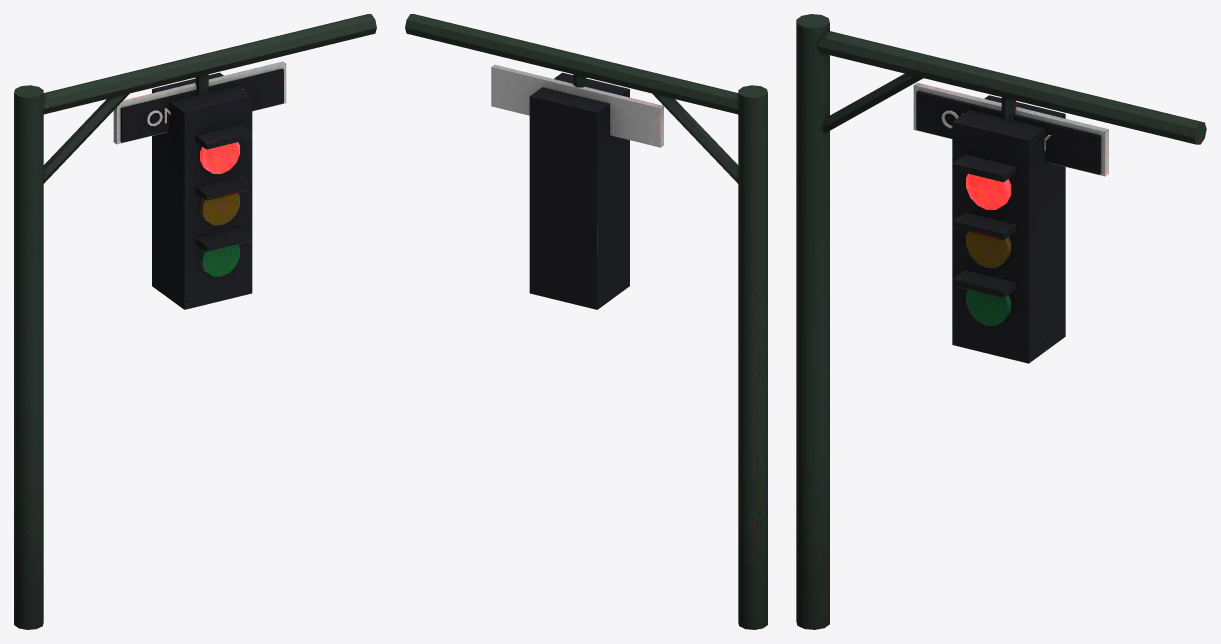
The model's file is semaforo.glb.
3 views of the same model, side by side, from view 1: azimuth 30°, elevation 25°; view 2: azimuth 150°, elevation 25°; view 3: azimuth 330°, elevation 25° (orthographic). The views are drawn at different scales.
Parts seen in each view (by area): view 1: semaforo; view 2: semaforo; view 3: semaforo.
Part boxes in pixels (x1,y1,x2,y2): semaforo: (14, 14, 376, 629); semaforo: (405, 14, 767, 629); semaforo: (796, 14, 1206, 629).
Size of the model in its own units: 1.89 by 2.7 by 0.4.
1 material, 1 textured.
